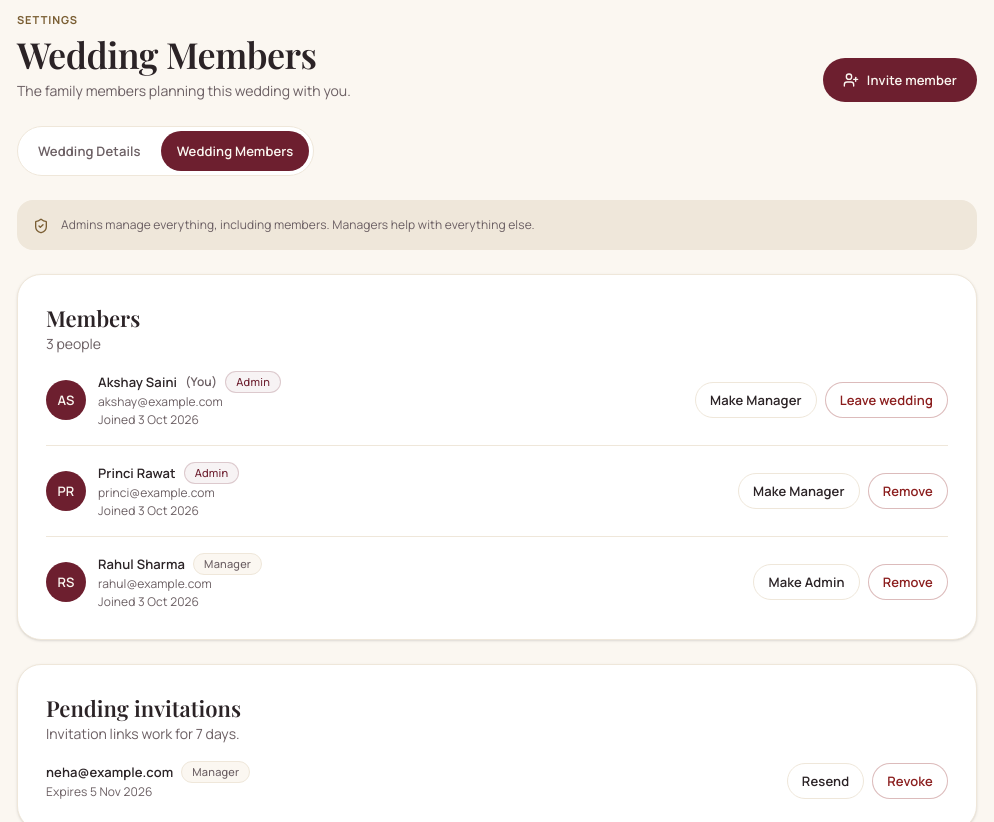
Test case: <MembersScreen /> as an Admin › explains LAST_ADMIN from the server
Click the button "Make Manager" in the row of "Princi Rawat".
click(799, 491)  # box [738,473,860,509]
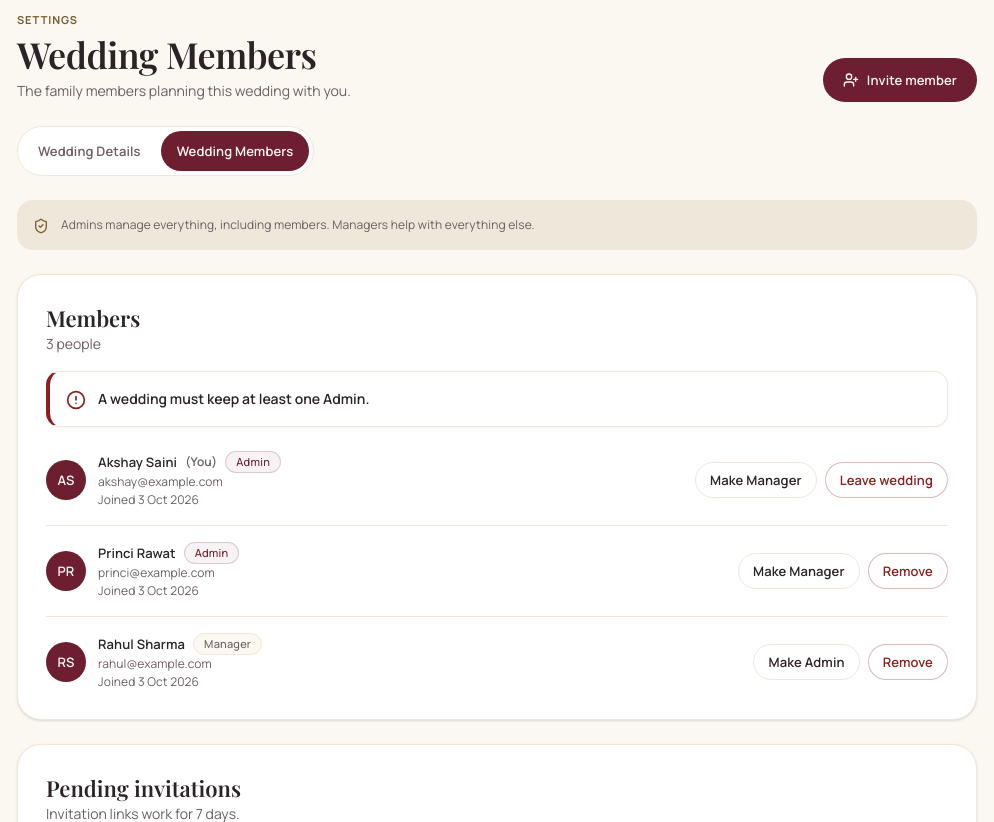
Result: the message reads "A wedding must keep at least one Admin." at [98,389,369,408]
